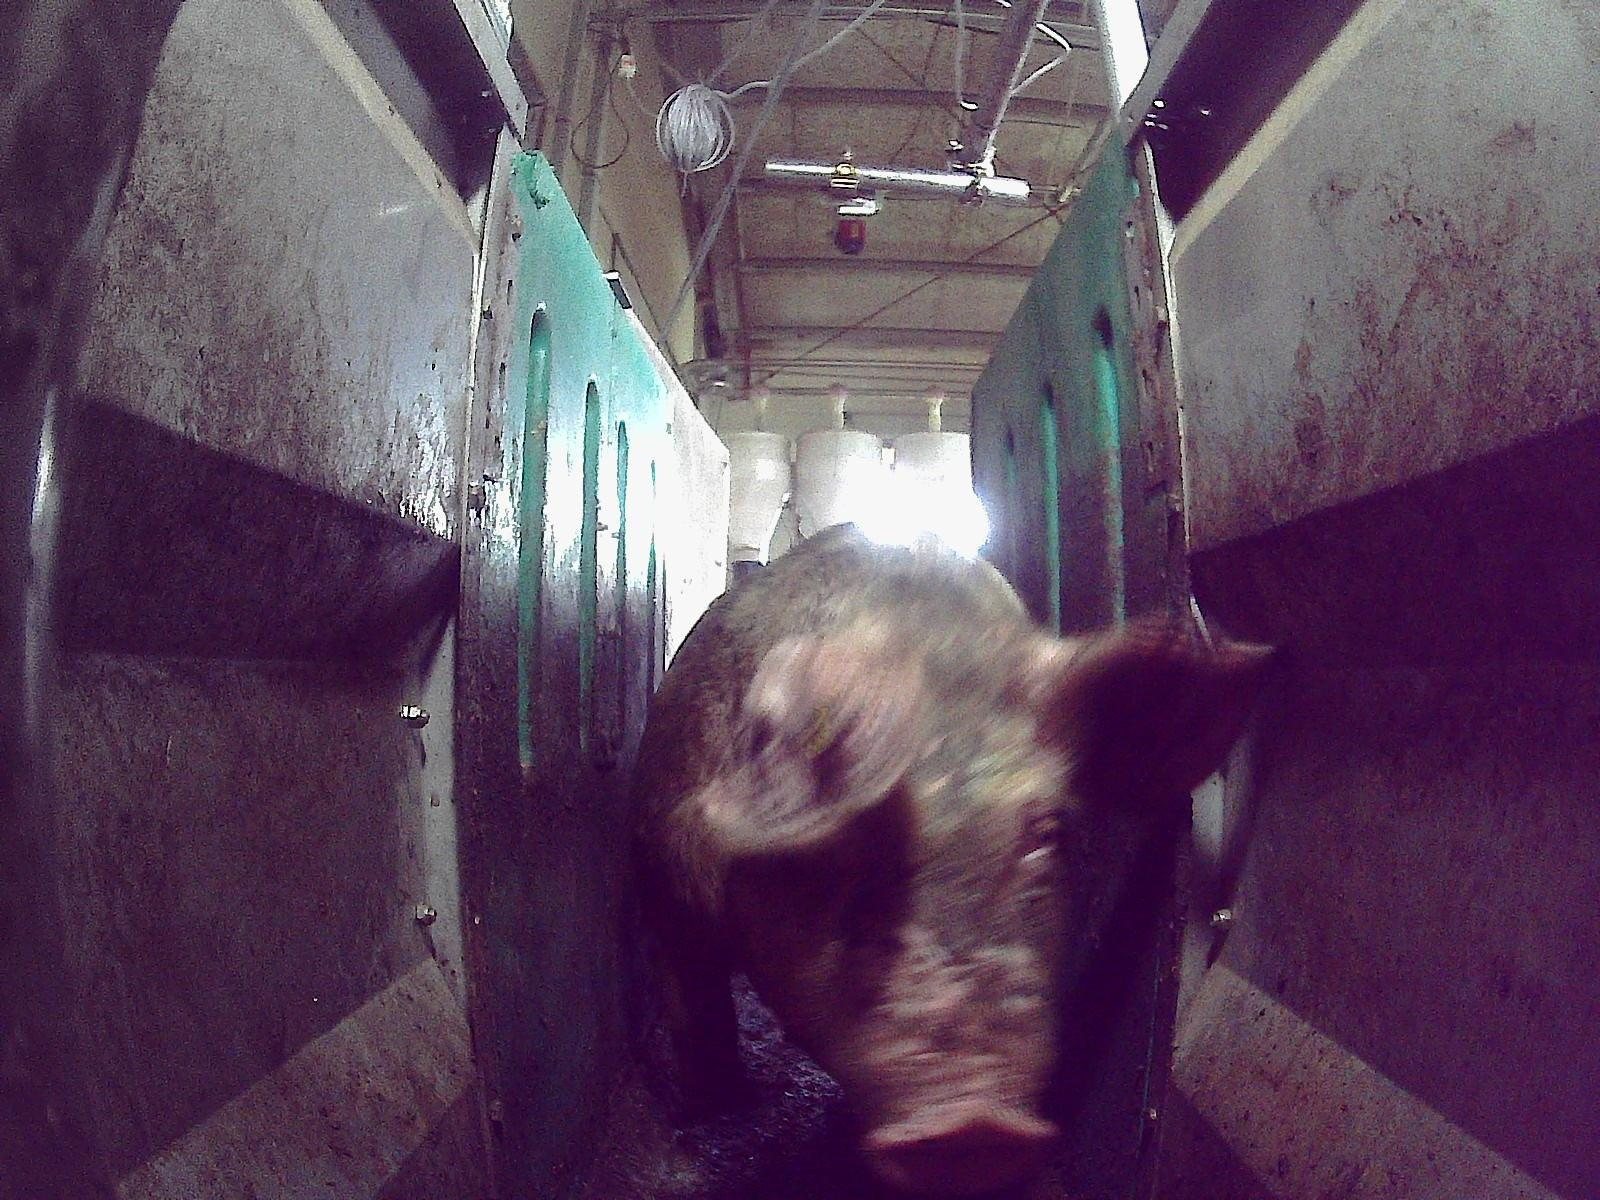Face: (726, 628, 1122, 1190)
